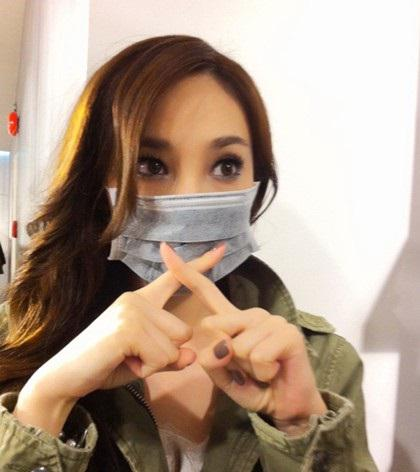OK: (109, 133, 265, 289)
